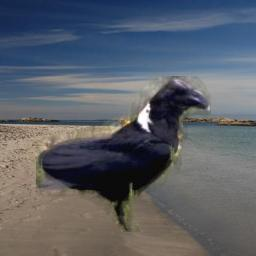Crow: (36, 76, 211, 232)
